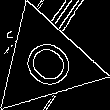O_SE: (11, 29, 80, 96)
